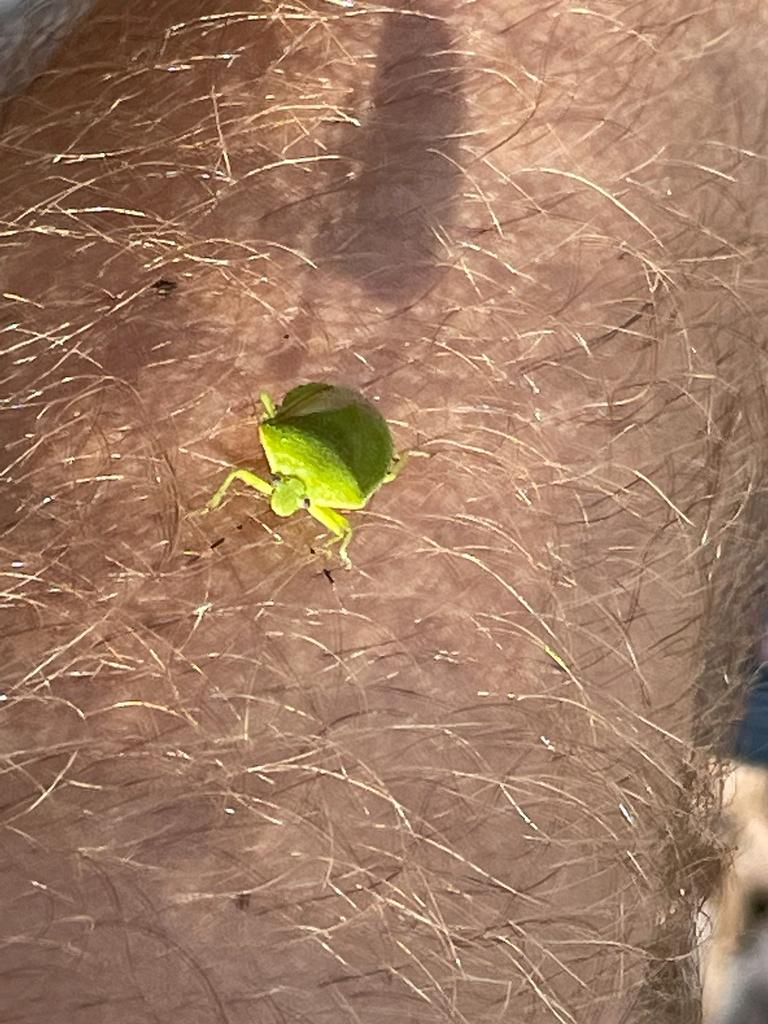stink_bugs: (181, 329, 458, 606)
